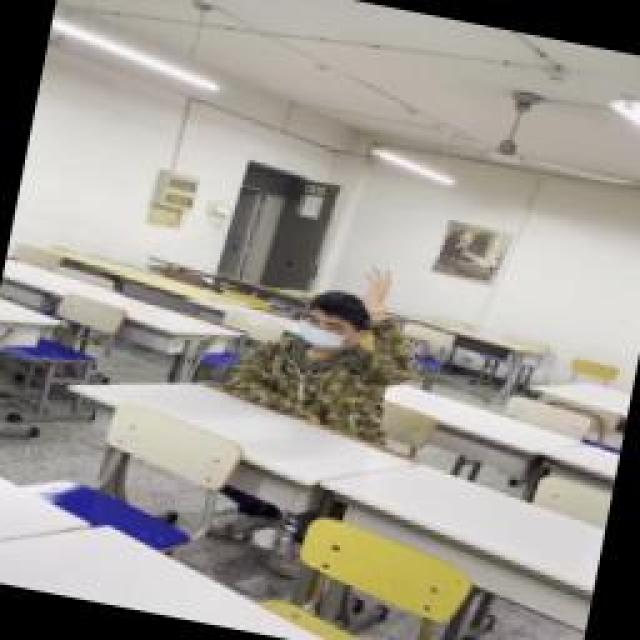study: (218, 240, 438, 445)
